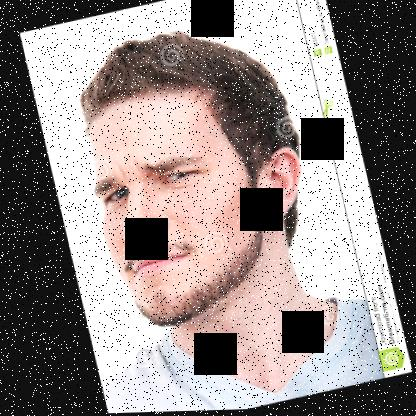Male: (72, 64, 328, 334)
